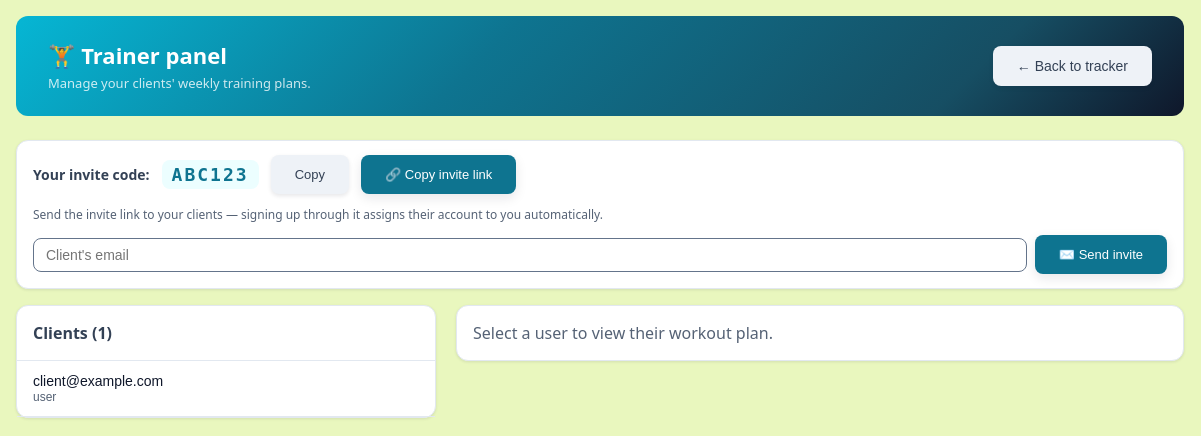
Test: AdminDashboard invite by email › emails the trainer invite link from the panel
Type "client@example.com" into the field with placeholder "Client's email" at (530, 254), box [33,238,1027,272]
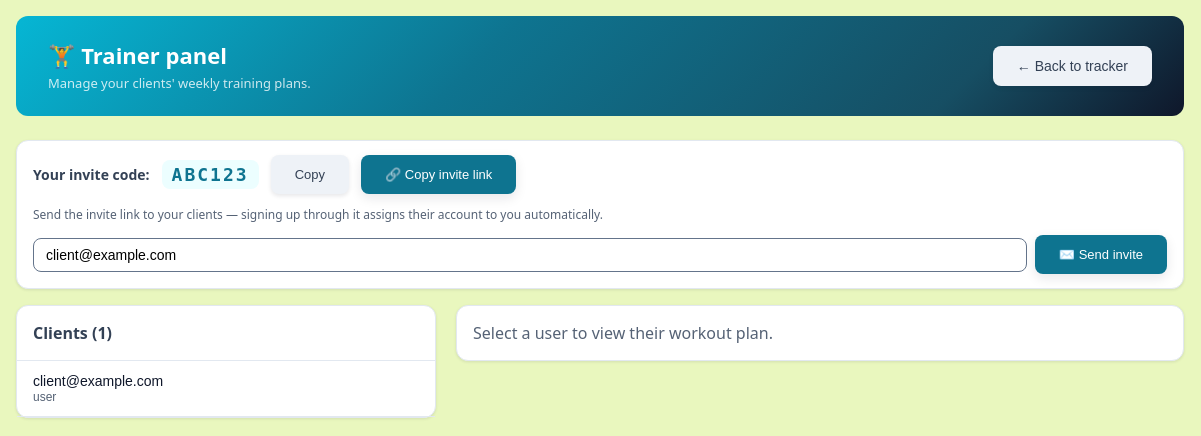
Click the button "✉️ Send invite" at (1101, 254), box [1035,235,1167,274]
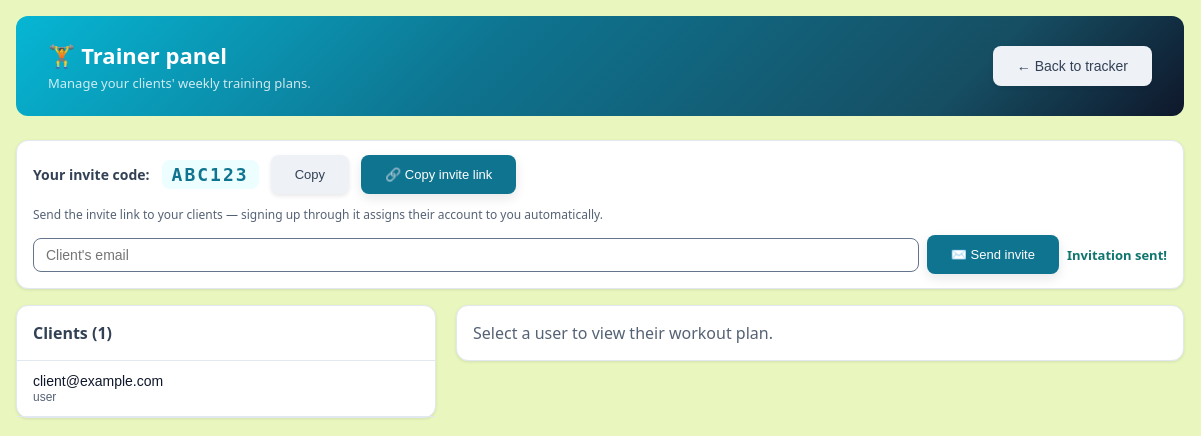
Check: the text "Invitation sent!" is shown, box [1067,246,1167,264]
